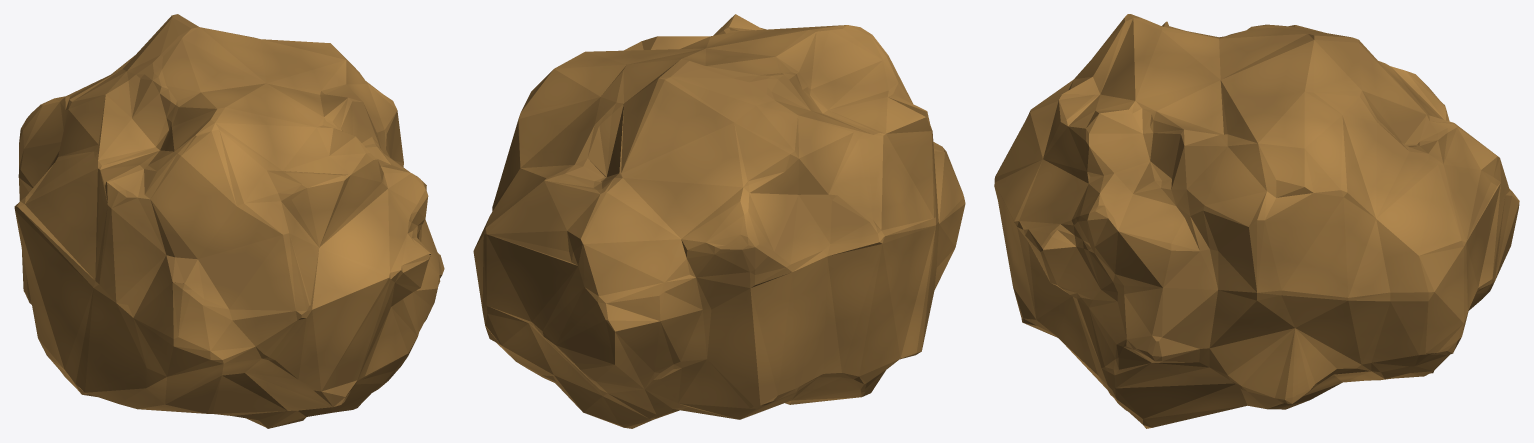
The model's file is Rock_03.fbx.
The picture shows the model from 3 angles, left to right: view 1: azimuth 30°, elevation 25°; view 2: azimuth 150°, elevation 25°; view 3: azimuth 270°, elevation 25°; orthographic projection. The views are drawn at different scales.
Parts seen in each view (by area): view 1: Rock_03; view 2: Rock_03; view 3: Rock_03.
Boxes of the visible parts, x1,y1,x2,y2 form: Rock_03: (14,14,444,428); Rock_03: (473,14,965,428); Rock_03: (994,14,1519,428).
Size of the model in its own units: 457 by 408 by 552.
Materials: 1 (1 with a texture image).
